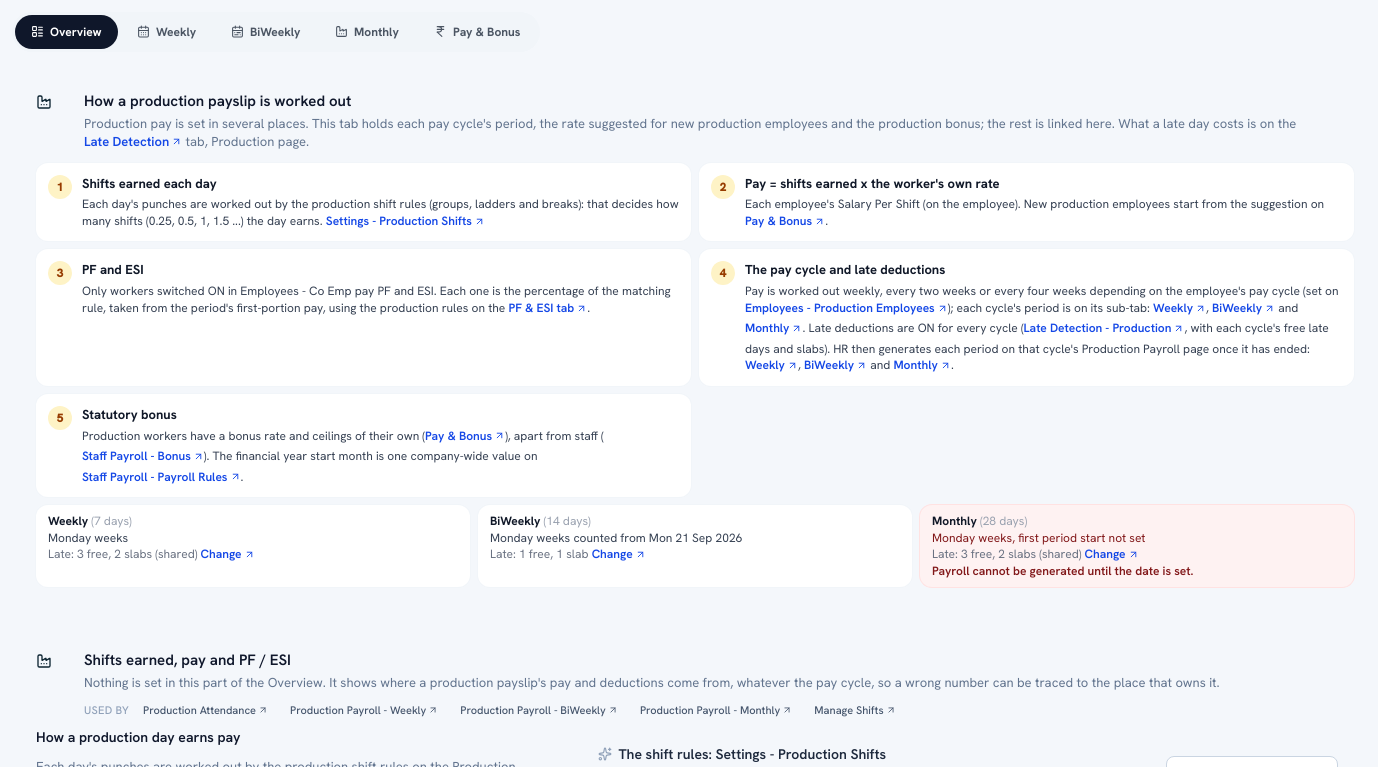
Test: Settings -> Production Payroll -> Pay & Bonus › shows the suggested rate and the production bonus, apart from the staff bonus, with the financial year pointing to Staff Payroll
Click the tab "Pay & Bonus". click: [477, 32]
box: [418,15,537,49]
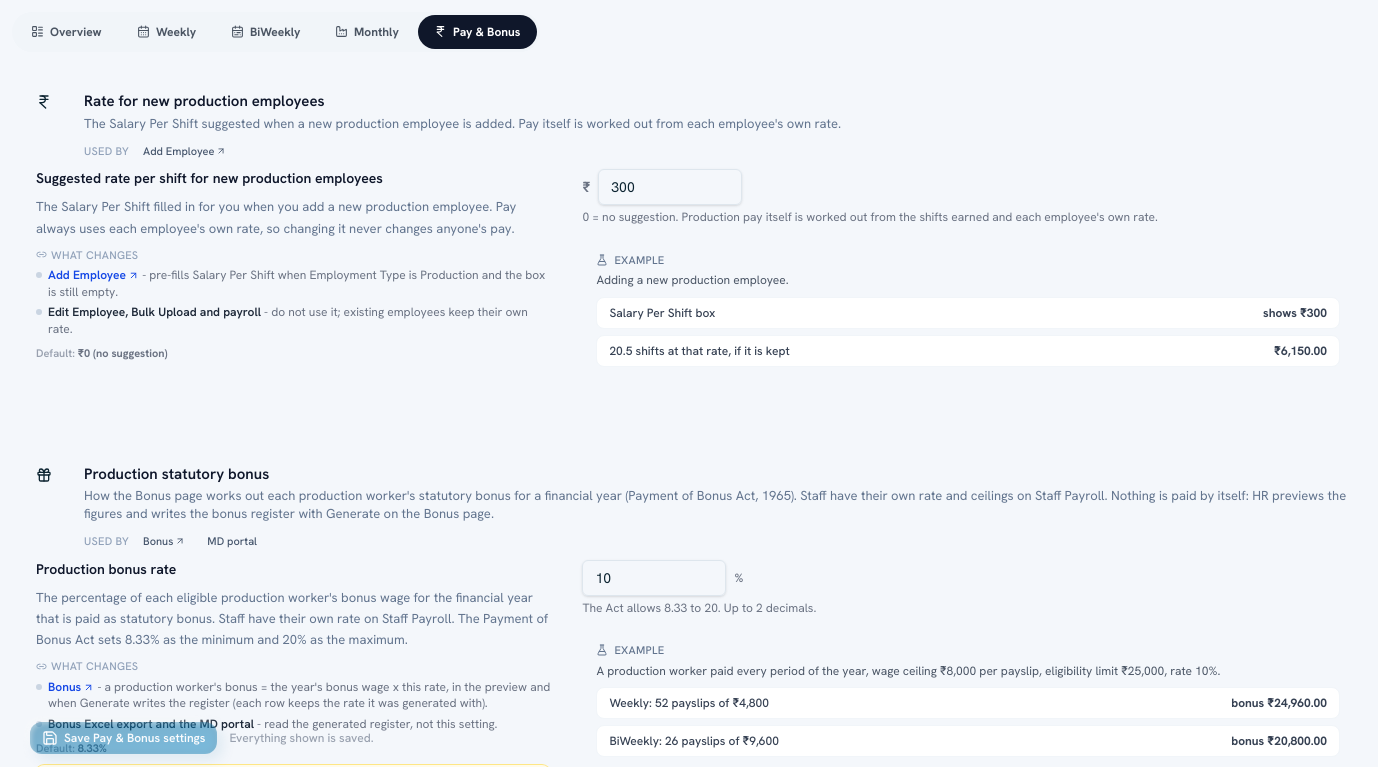
Expected: the field with id "default-salary-per-shift-input" holds "300", [598,169,742,205]
Expected: the field labelled "Production bonus rate" holds "10", [582,560,726,596]
Expected: the button "Save Pay & Bonus settings" is disabled, [30,722,217,754]
